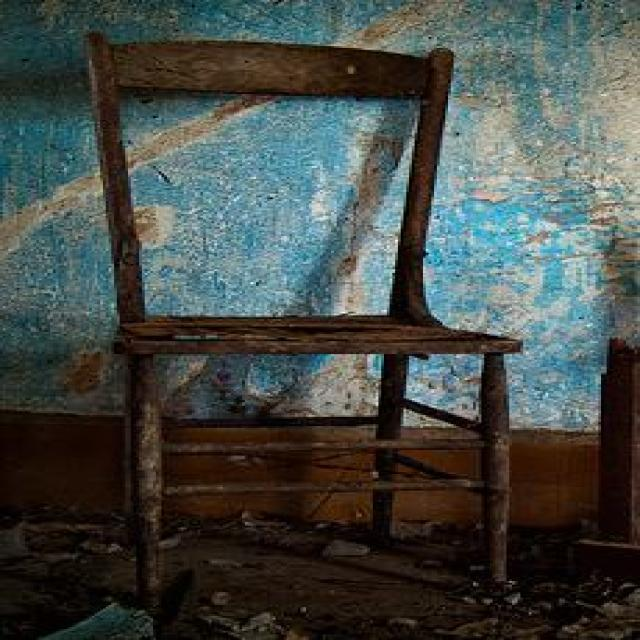chair: (81, 30, 523, 632)
